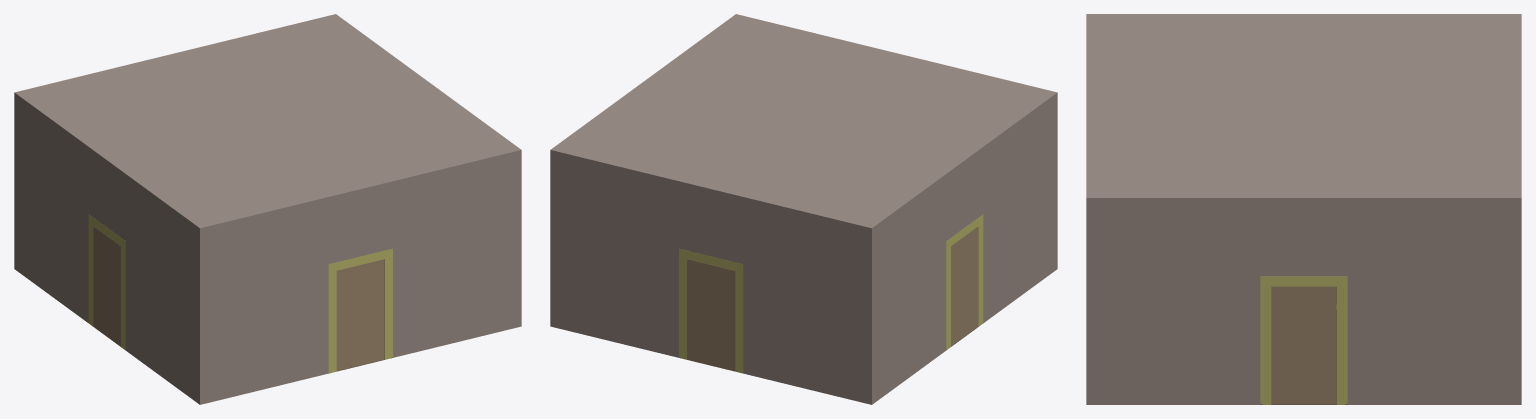
The model's file is Room10_CharredRoom.fbx.
3 renders of one model, left to right at view 1: azimuth 30°, elevation 25°; view 2: azimuth 150°, elevation 25°; view 3: azimuth 270°, elevation 25°, orthographic. The views are drawn at different scales.
Visible parts, largest first — view 1: Roof, WallSlicedPosZ, WallSlicedPosX, DoorPosZ, DoorPosX, DoorFramePosZ, DoorFramePosX, WallSlicedNegX, WallSlicedNegZ; view 2: Roof, WallSlicedNegZ, WallSlicedPosX, DoorNegZ, DoorPosX, DoorFrameNegZ, DoorFramePosX, WallSlicedPosZ, WallSlicedNegX; view 3: Roof, WallSlicedNegX, DoorNegX, DoorFrameNegX, WallSlicedNegZ, WallSlicedPosZ, WallSlicedPosX.
Boxes of the visible parts, bbox=[...] form: Roof: bbox=[17, 15, 518, 227]; WallSlicedPosZ: bbox=[198, 149, 521, 404]; WallSlicedPosX: bbox=[14, 92, 201, 404]; DoorPosZ: bbox=[336, 259, 384, 370]; DoorPosX: bbox=[93, 226, 120, 346]; DoorFramePosZ: bbox=[328, 248, 392, 372]; DoorFramePosX: bbox=[88, 214, 125, 349]; WallSlicedNegX: bbox=[335, 14, 521, 326]; WallSlicedNegZ: bbox=[14, 14, 336, 269]; Roof: bbox=[553, 15, 1054, 227]; WallSlicedNegZ: bbox=[550, 149, 873, 404]; WallSlicedPosX: bbox=[869, 92, 1056, 404]; DoorNegZ: bbox=[687, 259, 735, 370]; DoorPosX: bbox=[951, 226, 978, 346]; DoorFrameNegZ: bbox=[679, 248, 743, 372]; DoorFramePosX: bbox=[946, 214, 983, 349]; WallSlicedPosZ: bbox=[735, 14, 1057, 269]; WallSlicedNegX: bbox=[550, 14, 735, 326]; Roof: bbox=[1088, 14, 1519, 197]; WallSlicedNegX: bbox=[1086, 197, 1521, 404]; DoorNegX: bbox=[1271, 286, 1336, 404]; DoorFrameNegX: bbox=[1260, 276, 1347, 404]; WallSlicedNegZ: bbox=[1518, 14, 1521, 404]; WallSlicedPosZ: bbox=[1086, 14, 1089, 404]; WallSlicedPosX: bbox=[1087, 14, 1521, 14].
Bounding box in the file's own units: 100 × 53.31 × 100.
